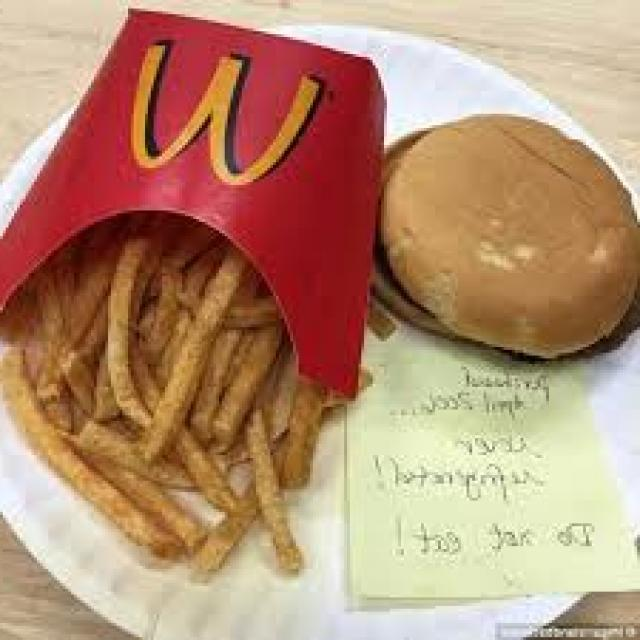Burger: (368, 97, 640, 366)
French Fries: (3, 60, 370, 580)
